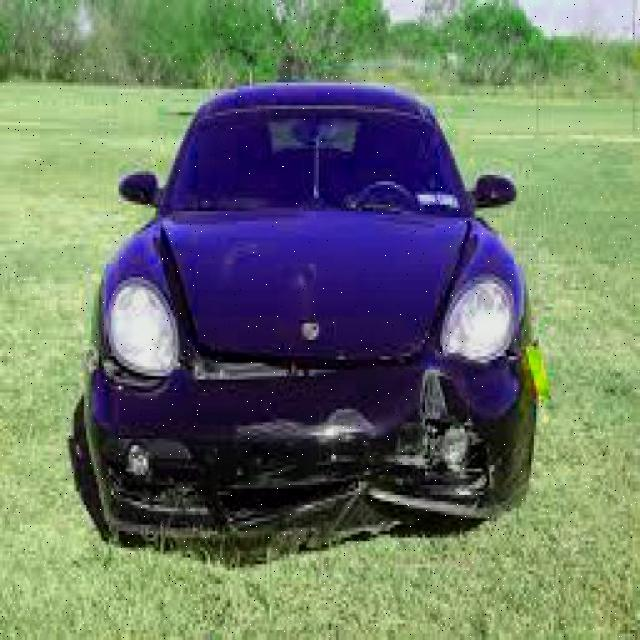car damage: (83, 221, 548, 543)
